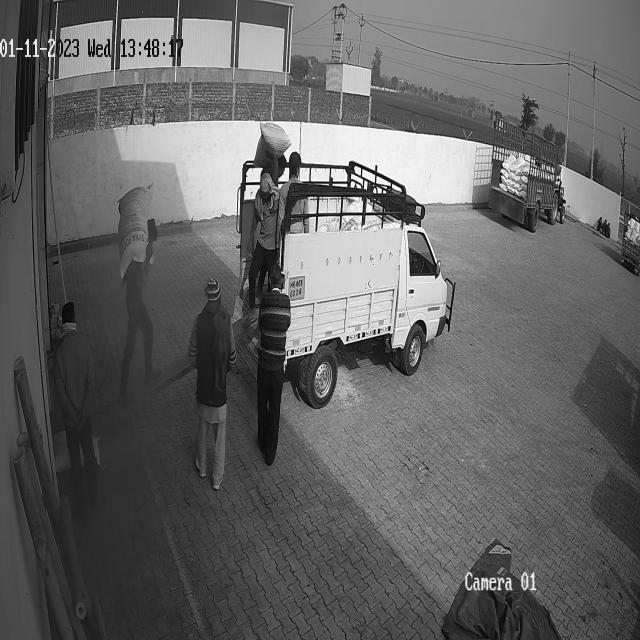sack: (117, 183, 153, 280)
